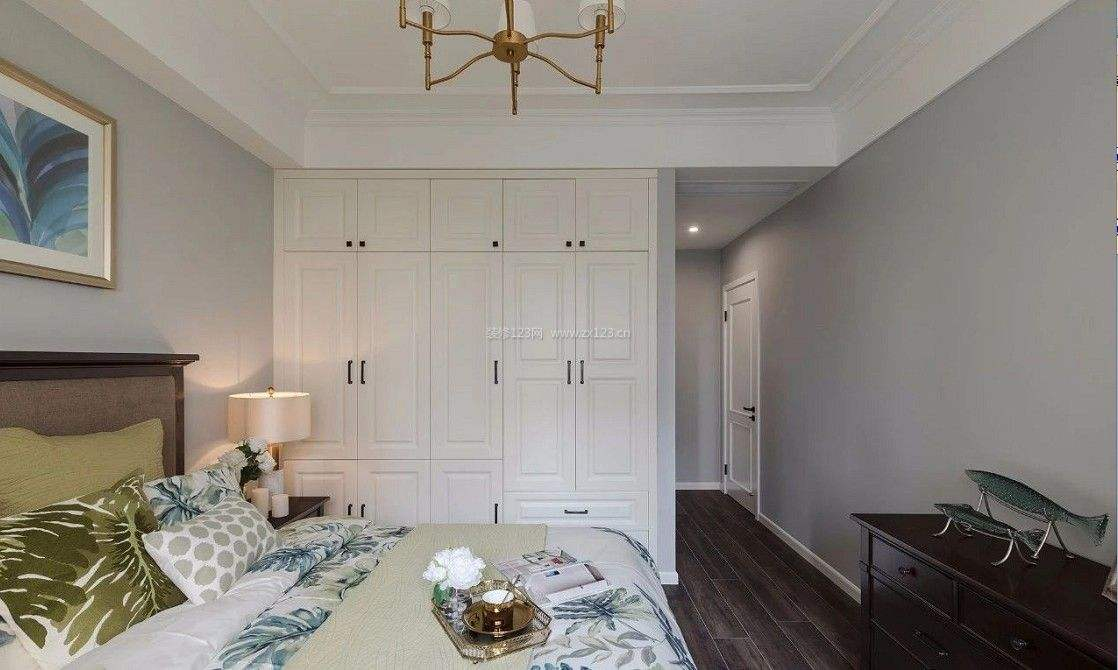床: (0, 500, 672, 668)
枕头: (0, 482, 272, 640)
灯: (404, 0, 641, 108), (227, 384, 311, 515), (681, 218, 702, 237)
